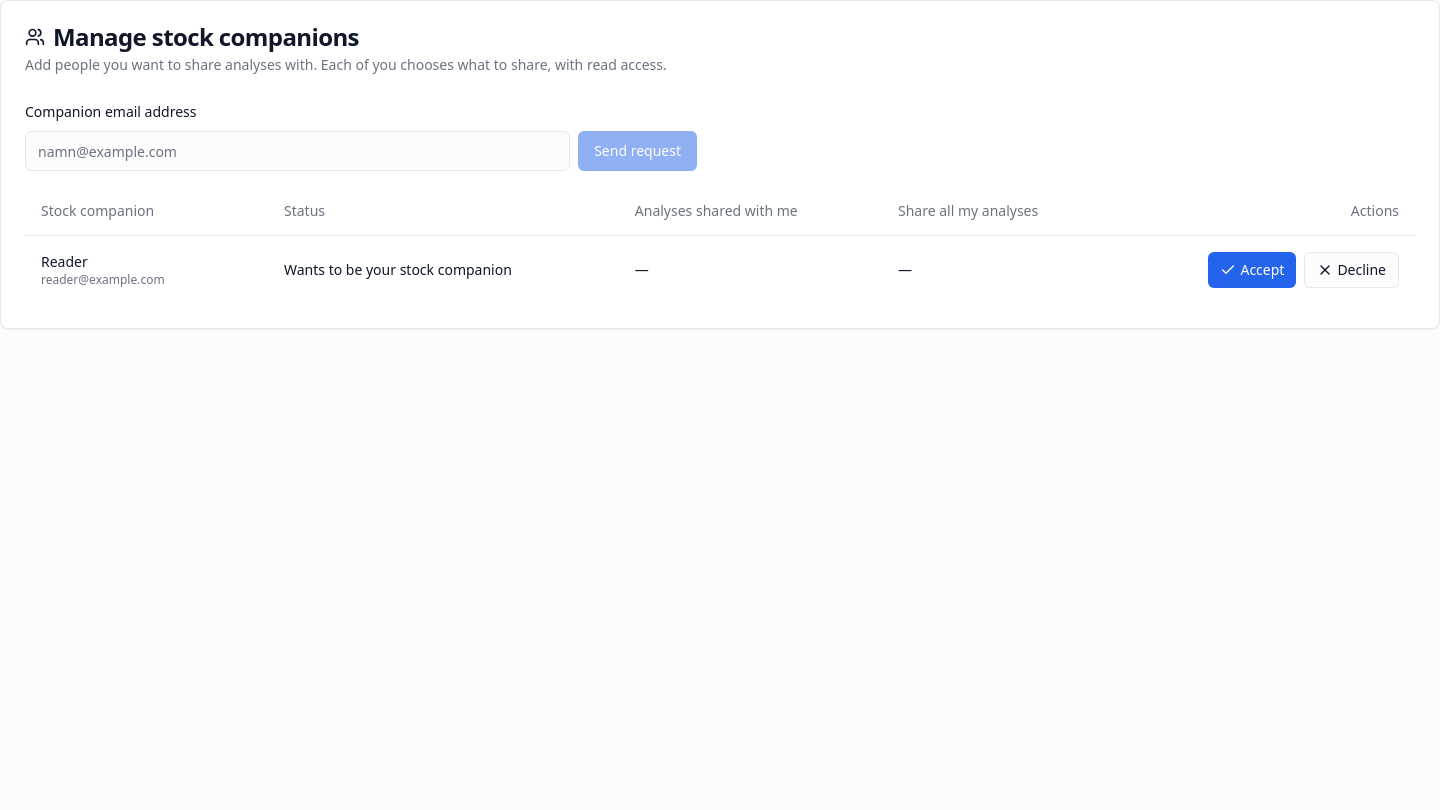
Test: stock companion page › accepts an incoming request and only then offers sharing controls
Check: the text "Wants to be your stock companion" is shown, box [268,235,619,304]
Click the button "Accept": click(1252, 270) [1208,252,1296,288]
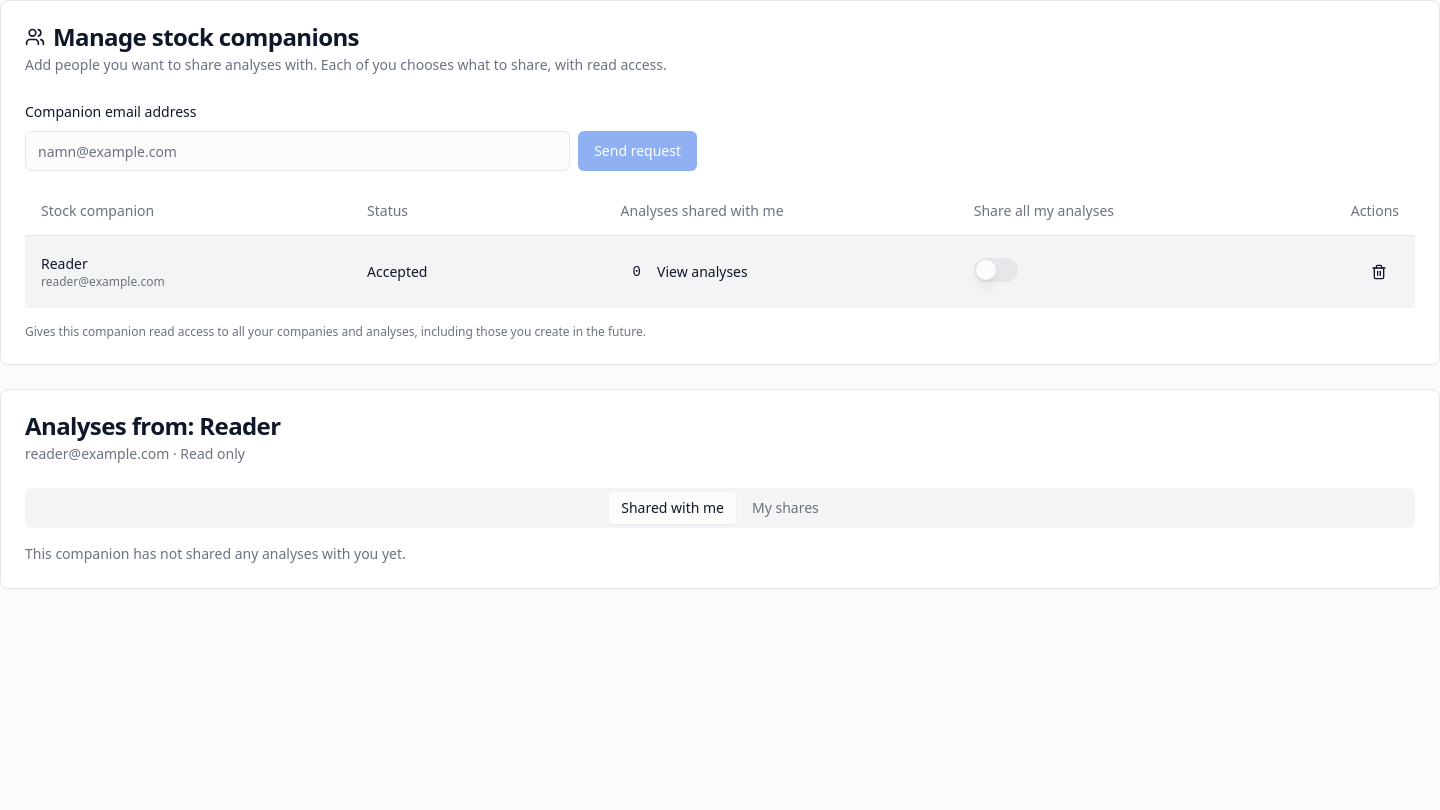
Check: the switch named "Share all my analyses: reader@example.com" is not checked, box [974,258,1018,282]
